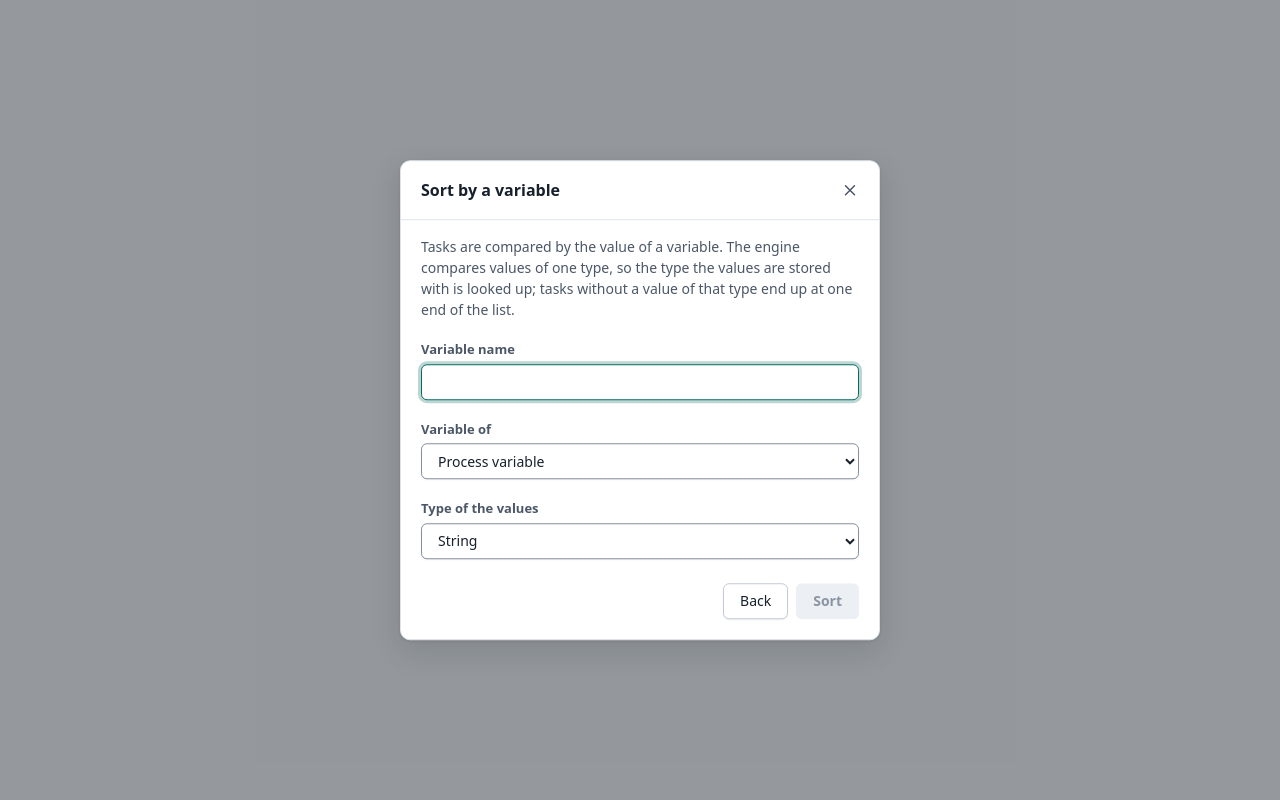
it: sorting by a variable › sorts with the detected type so that the order is right
Later steps or results of the test are not shown.
Type "score" into the field labelled "Variable name" at (640, 382), box [421,364,859,400]
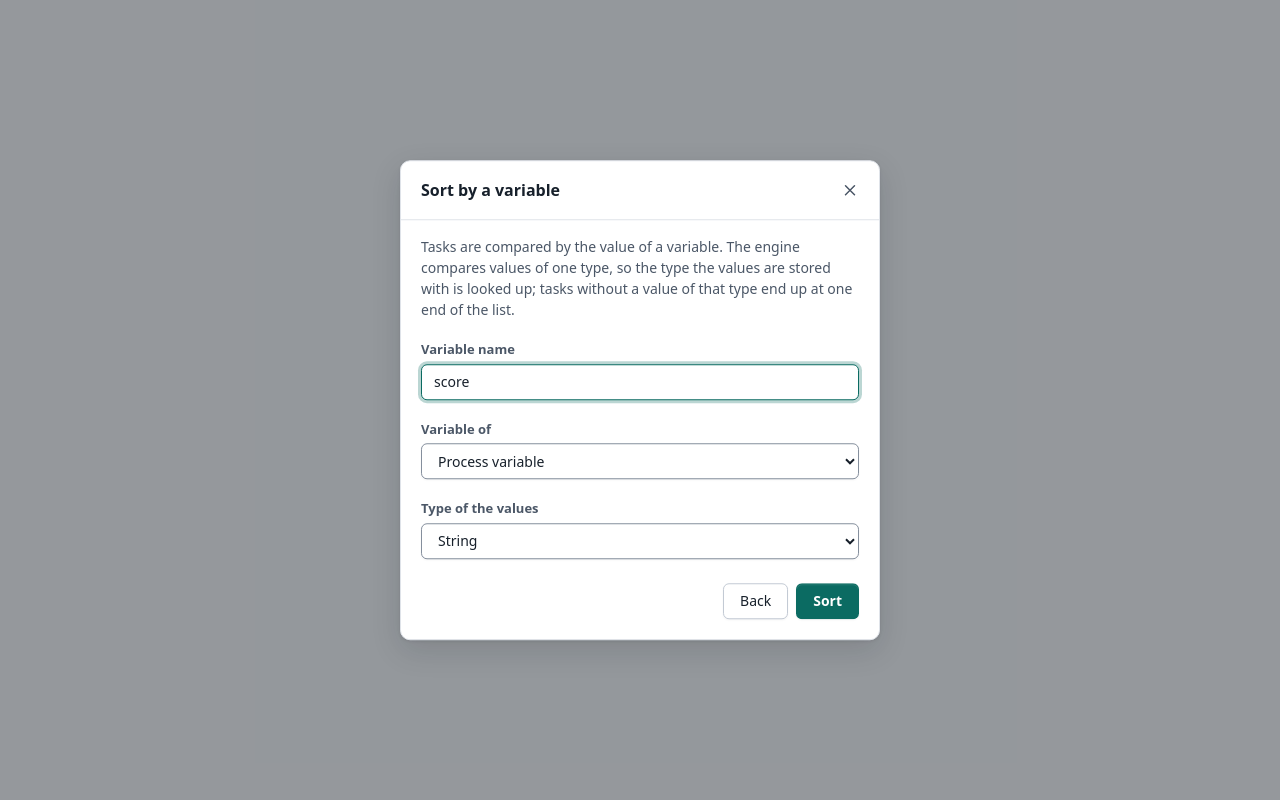
Press Tab
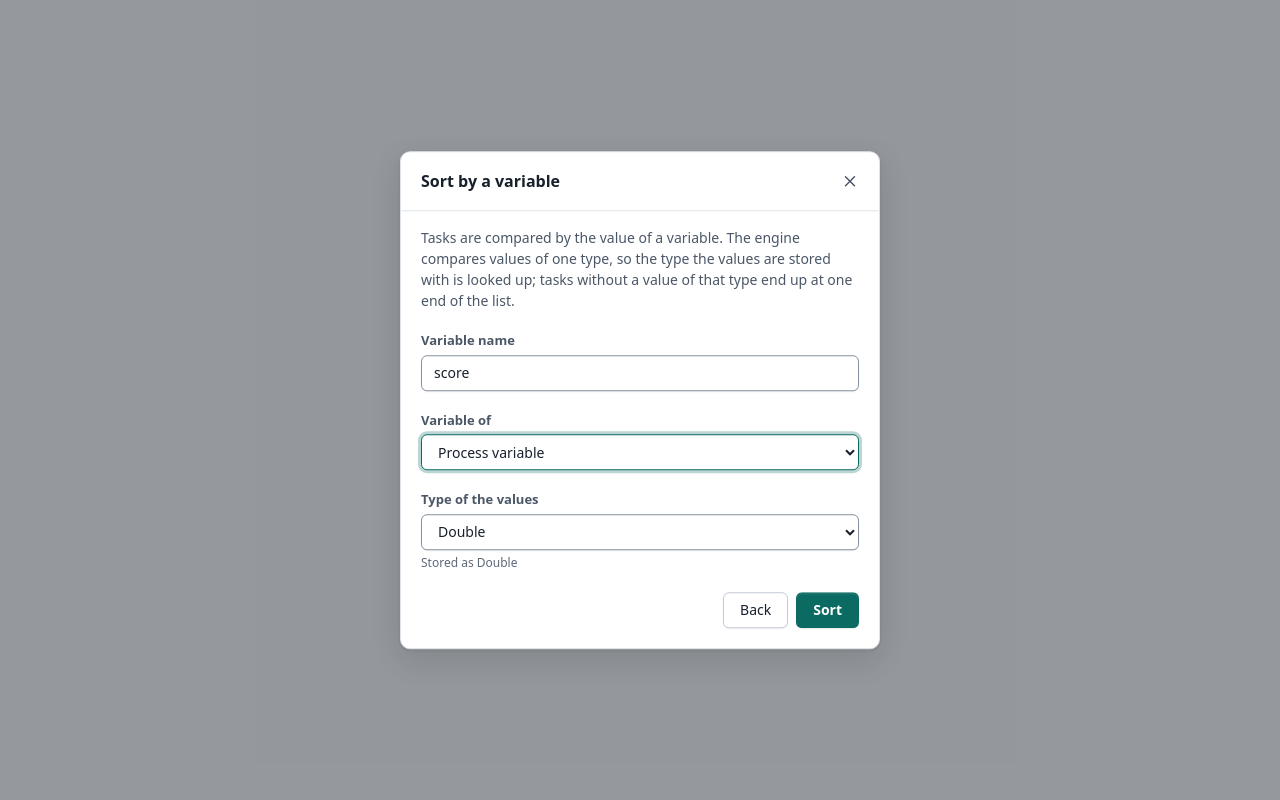
Result: the text "Stored as Double" is shown at [421,554,518,571]
